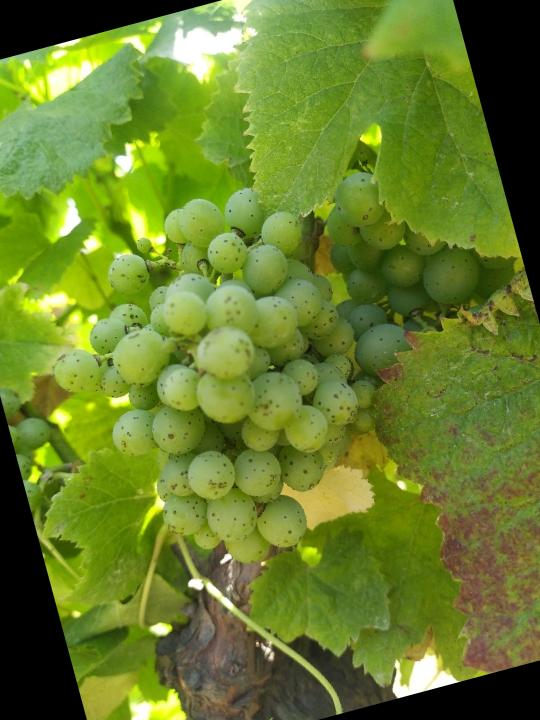grape: (16, 164, 413, 603)
